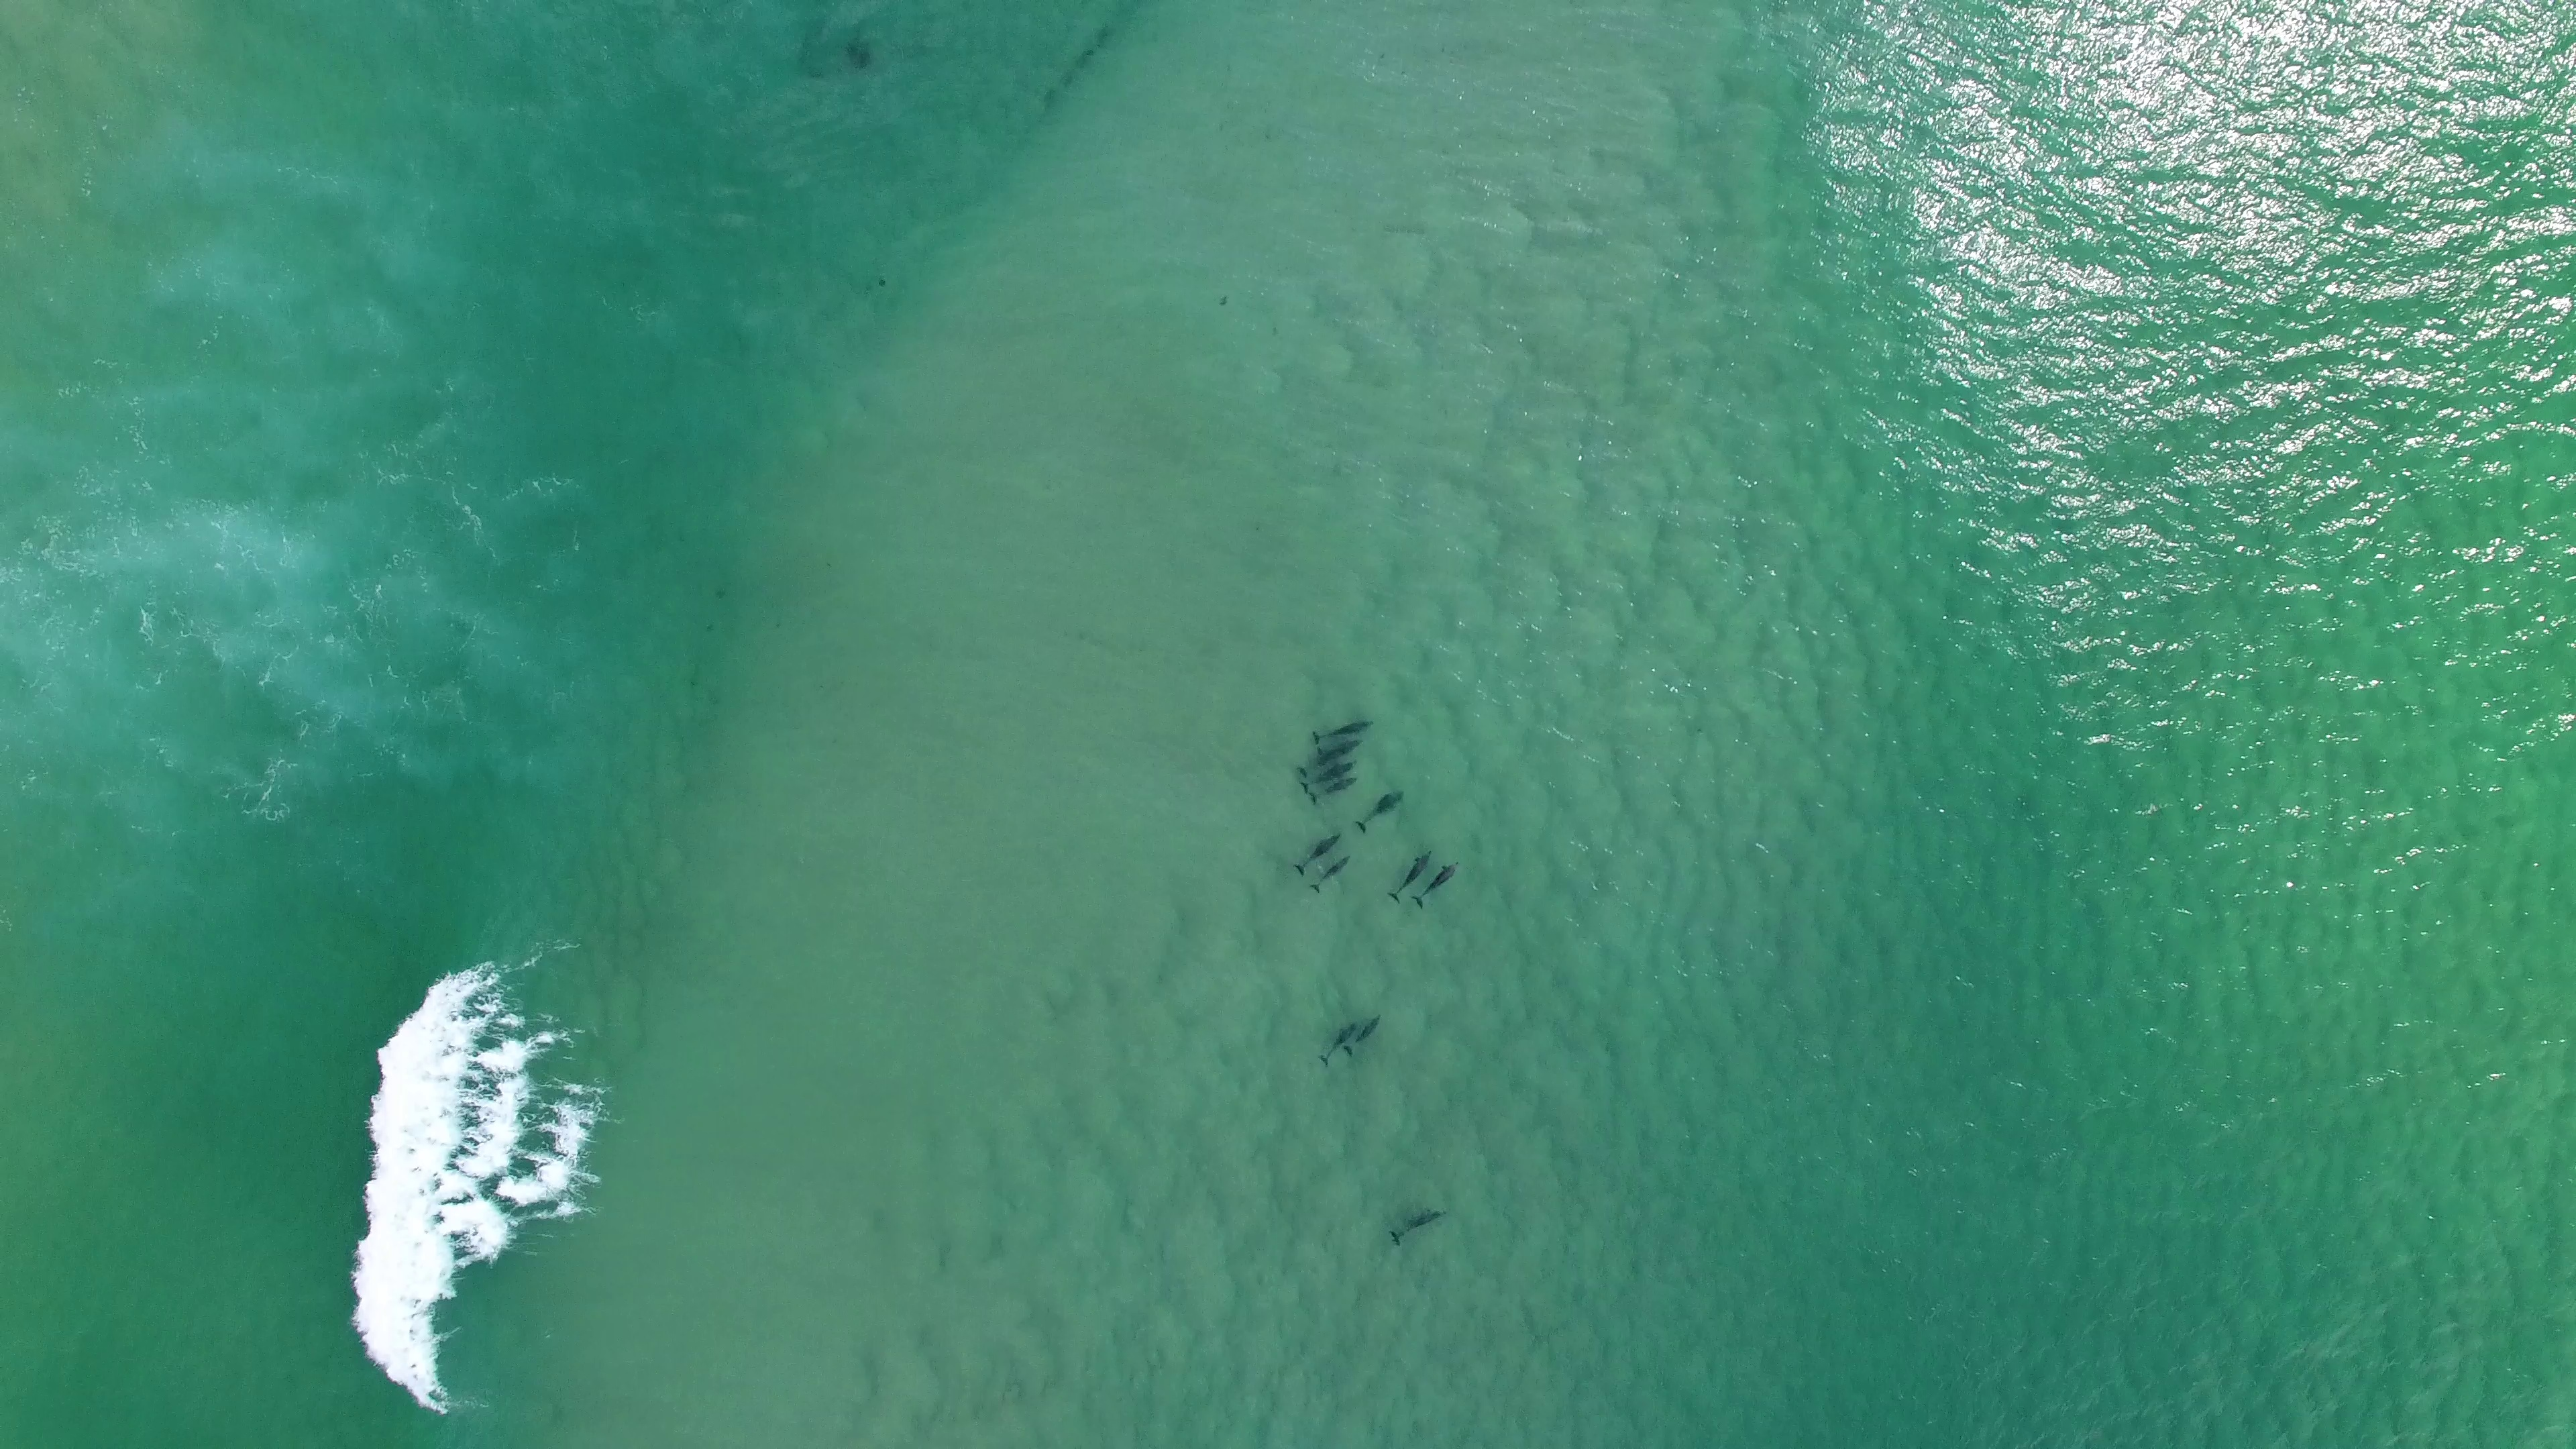dolphin: (1297, 736, 1366, 777), (1412, 858, 1458, 909), (1387, 849, 1431, 902), (1357, 787, 1405, 835), (1389, 1207, 1449, 1244), (1293, 832, 1339, 878), (1311, 715, 1376, 747), (1299, 759, 1355, 791), (1339, 1014, 1382, 1054), (1311, 853, 1352, 892), (1322, 1019, 1355, 1065), (1311, 775, 1357, 805)
